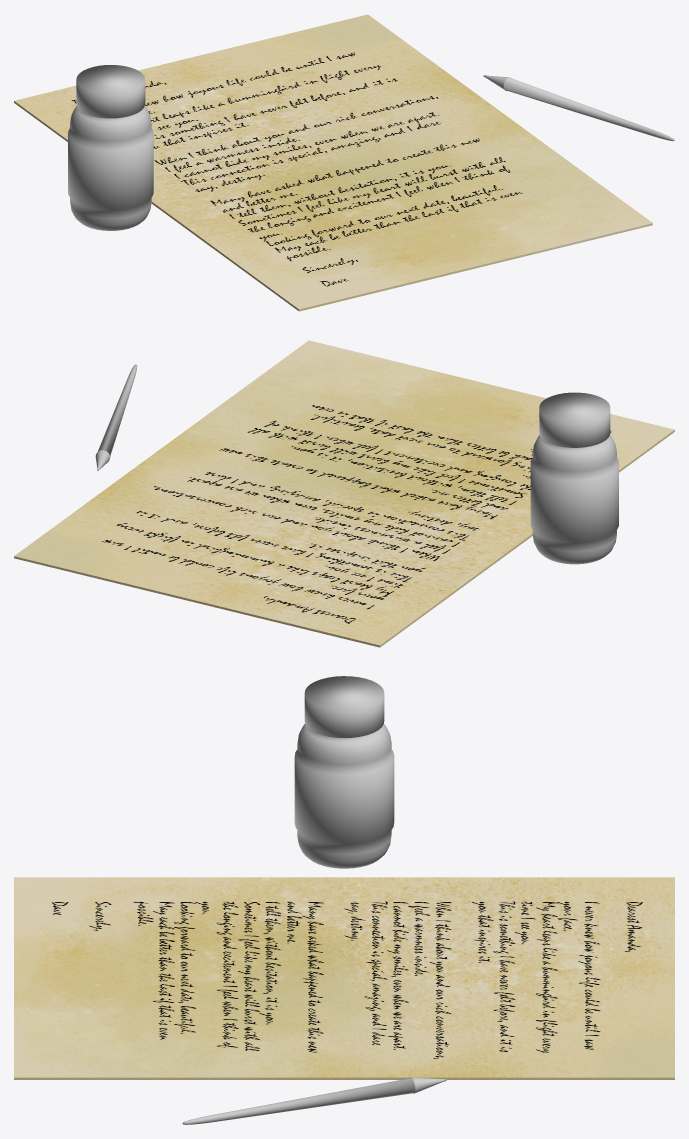
Rendered from OPRDACHT 2_ PROP.fbx.
3 views of the same model, one above another, from view 1: azimuth 30°, elevation 25°; view 2: azimuth 150°, elevation 25°; view 3: azimuth 270°, elevation 25° (orthographic). The views are drawn at different scales.
Visible parts, largest first — view 1: papier, Cylinder.001, Cylinder; view 2: papier, Cylinder.001, Cylinder; view 3: papier, Cylinder.001, Cylinder.
Boxes of the visible parts, box(x1,y1,x2,y2) form: papier: box(14, 14, 652, 311); Cylinder.001: box(68, 65, 153, 230); Cylinder: box(483, 75, 674, 141); papier: box(14, 340, 674, 647); Cylinder.001: box(530, 392, 618, 564); Cylinder: box(95, 364, 137, 470); papier: box(14, 877, 674, 1079); Cylinder.001: box(294, 676, 394, 868); Cylinder: box(182, 1077, 446, 1124).
Size of the model in its own units: 1504 by 376 by 1397.
